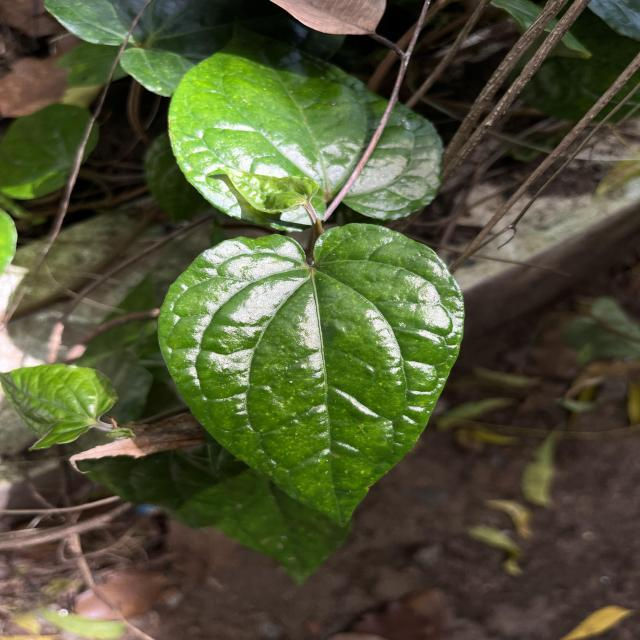Piper betle: (154, 220, 468, 530)
